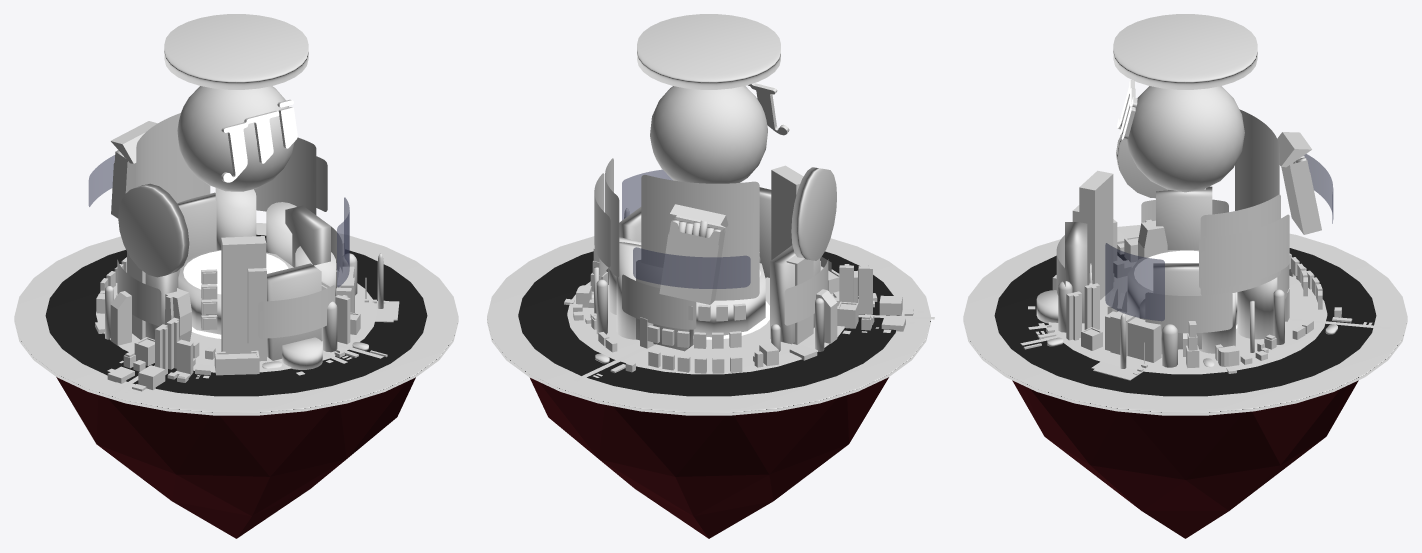
Rendered from jtiisland.glb.
3 views of the same model, side by side, from view 1: azimuth 30°, elevation 25°; view 2: azimuth 150°, elevation 25°; view 3: azimuth 270°, elevation 25° (orthographic).
Visible parts, largest first — view 1: Icosphere.001, Cylinder.055, Cylinder.003, Cylinder.056, Icosphere, Cylinder.052, Cube.021, Cylinder.027, SCREEN 0.102, SCREEN 0.114, SCREEN 0.118, JT VERSE LOGO.005 (+25 smaller); view 2: Icosphere.001, Cylinder.055, Cylinder.003, Icosphere, Cylinder.056, SCREEN 0.102, Cylinder.060, SCREEN 0.101, Cube.022, Cylinder.052, SCREEN 0.117, Cube.021 (+19 smaller); view 3: Icosphere.001, Cylinder.055, Cylinder.003, Icosphere, Cylinder.056, Cylinder.060, SCREEN 0.103, SCREEN 0.100, Cube.021, SCREEN 0.102, SCREEN 0.115, Cube.130 (+20 smaller).
Boxes of the visible parts, x1=… form: Icosphere.001: x1=56, y1=377, x2=415, y2=538; Cylinder.055: x1=14, y1=223, x2=458, y2=415; Cylinder.003: x1=45, y1=234, x2=427, y2=396; Cylinder.056: x1=164, y1=14, x2=308, y2=89; Icosphere: x1=177, y1=86, x2=294, y2=191; Cylinder.052: x1=118, y1=183, x2=189, y2=277; Cube.021: x1=221, y1=236, x2=266, y2=361; Cylinder.027: x1=215, y1=188, x2=336, y2=296; SCREEN 0.102: x1=136, y1=113, x2=210, y2=203; SCREEN 0.114: x1=254, y1=137, x2=316, y2=214; SCREEN 0.118: x1=258, y1=285, x2=335, y2=338; JT VERSE LOGO.005: x1=221, y1=99, x2=297, y2=182; Icosphere.001: x1=530, y1=377, x2=888, y2=538; Cylinder.055: x1=487, y1=236, x2=930, y2=415; Cylinder.003: x1=518, y1=251, x2=899, y2=396; Icosphere: x1=650, y1=86, x2=767, y2=183; Cylinder.056: x1=637, y1=14, x2=780, y2=89; SCREEN 0.102: x1=641, y1=175, x2=759, y2=300; Cylinder.060: x1=567, y1=277, x2=844, y2=374; SCREEN 0.101: x1=633, y1=247, x2=750, y2=288; Cube.022: x1=659, y1=229, x2=725, y2=304; Cylinder.052: x1=791, y1=167, x2=836, y2=260; SCREEN 0.117: x1=622, y1=274, x2=696, y2=329; Cube.021: x1=771, y1=165, x2=803, y2=259; Icosphere.001: x1=1012, y1=380, x2=1358, y2=538; Cylinder.055: x1=963, y1=225, x2=1407, y2=415; Cylinder.003: x1=994, y1=248, x2=1376, y2=396; Icosphere: x1=1127, y1=86, x2=1244, y2=192; Cylinder.056: x1=1113, y1=14, x2=1257, y2=89; Cylinder.060: x1=1048, y1=260, x2=1327, y2=374; SCREEN 0.103: x1=1199, y1=214, x2=1289, y2=289; SCREEN 0.100: x1=1105, y1=243, x2=1164, y2=321; Cube.021: x1=1072, y1=170, x2=1113, y2=299; SCREEN 0.102: x1=1235, y1=109, x2=1279, y2=210; SCREEN 0.115: x1=1145, y1=292, x2=1232, y2=333; Cube.130: x1=1156, y1=186, x2=1212, y2=249.
Bounding box in the file's own units: 3.11 × 3.85 × 3.13.
